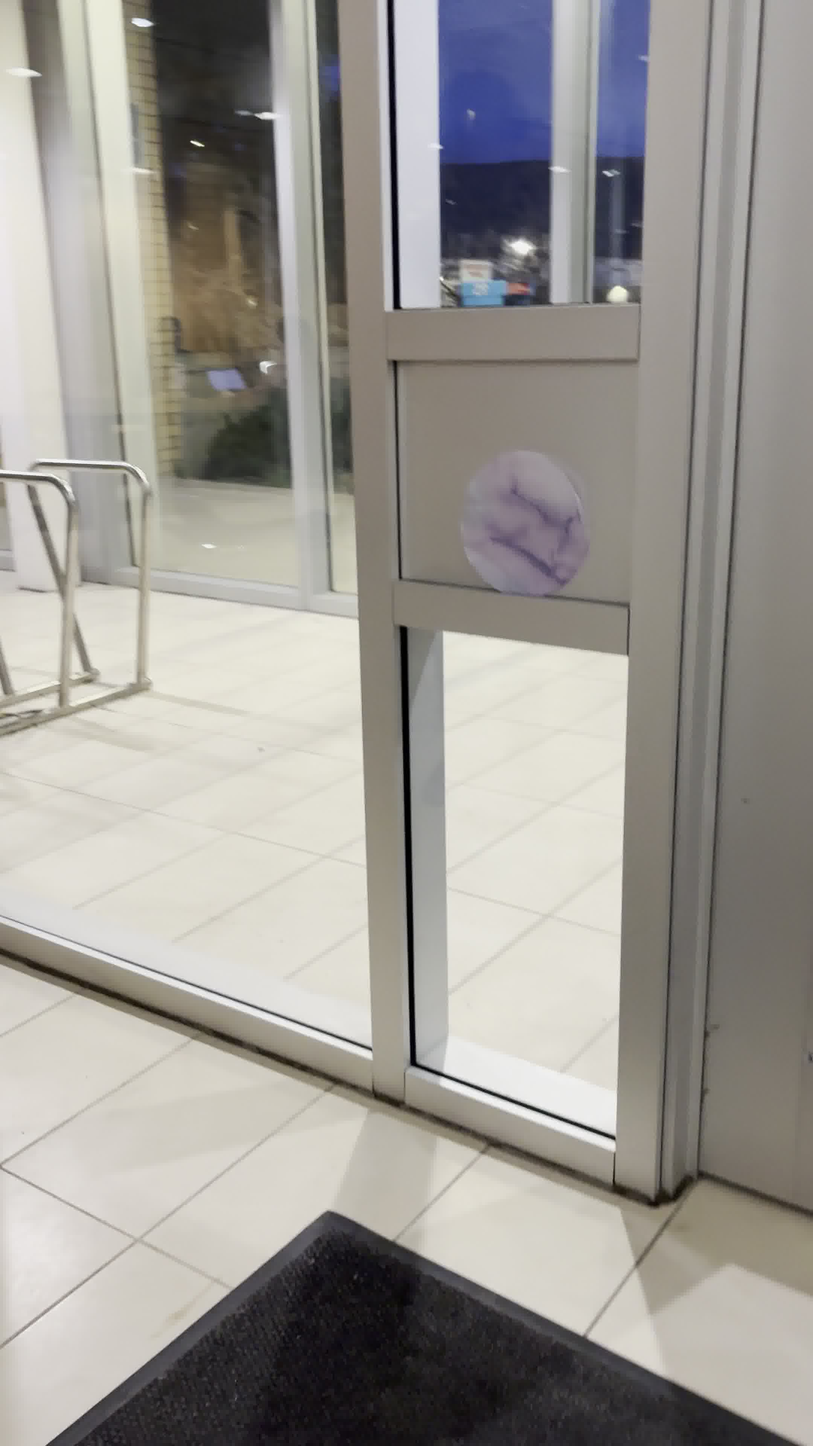Target: (458, 447, 594, 600)
